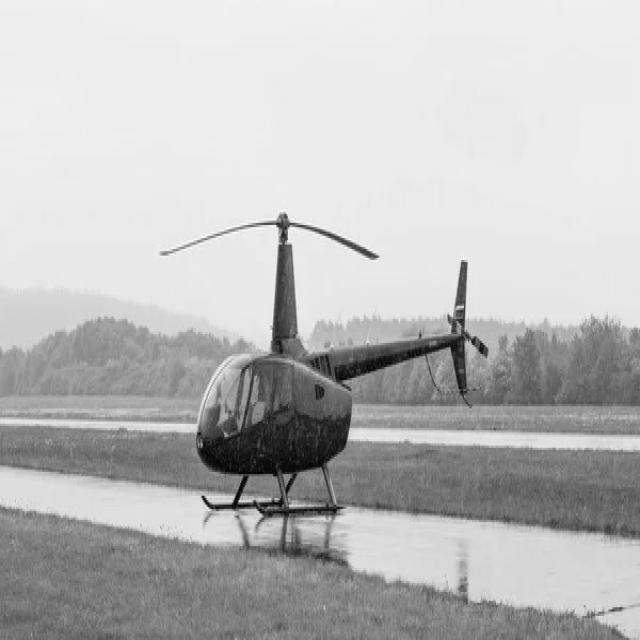Helicopter: (162, 214, 472, 514)
